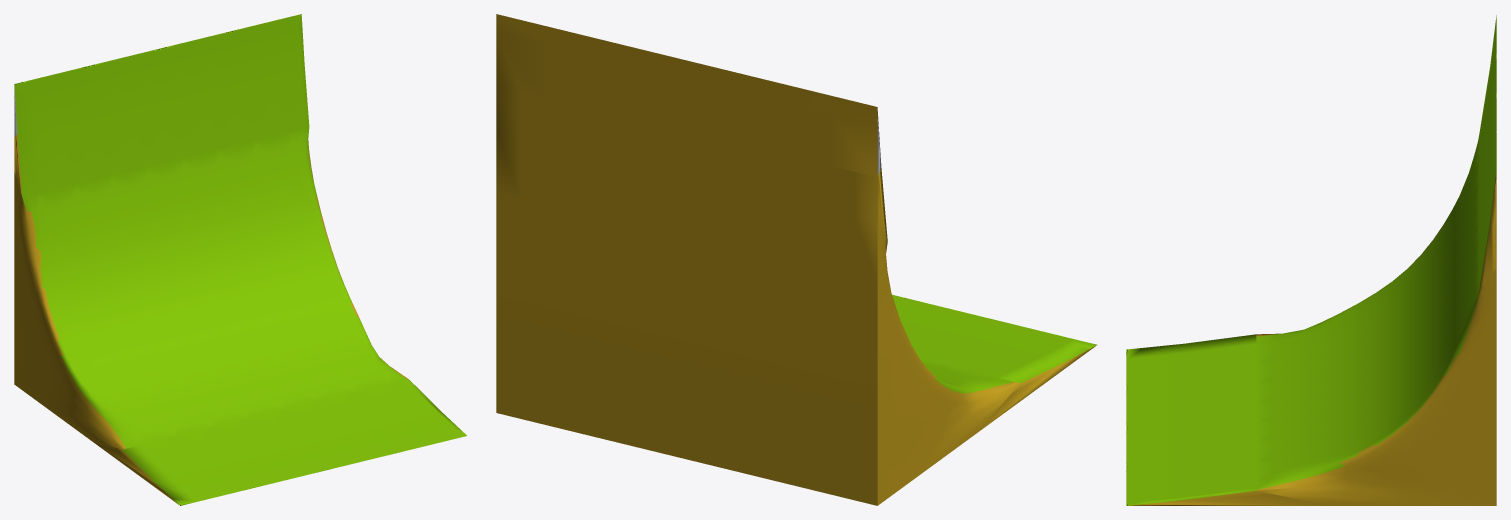
The model's file is Ramp.fbx.
3 renders of one model, left to right at view 1: azimuth 30°, elevation 25°; view 2: azimuth 150°, elevation 25°; view 3: azimuth 270°, elevation 25°, orthographic. The views are drawn at different scales.
Visible parts, largest first — view 1: nurbsToPoly1; view 2: nurbsToPoly1; view 3: nurbsToPoly1.
Part boxes in pixels (bbox=[...]): nurbsToPoly1: bbox=[14, 14, 466, 505]; nurbsToPoly1: bbox=[496, 14, 1096, 505]; nurbsToPoly1: bbox=[1126, 15, 1496, 505].
Size of the model in its own units: 100 by 100 by 100.
